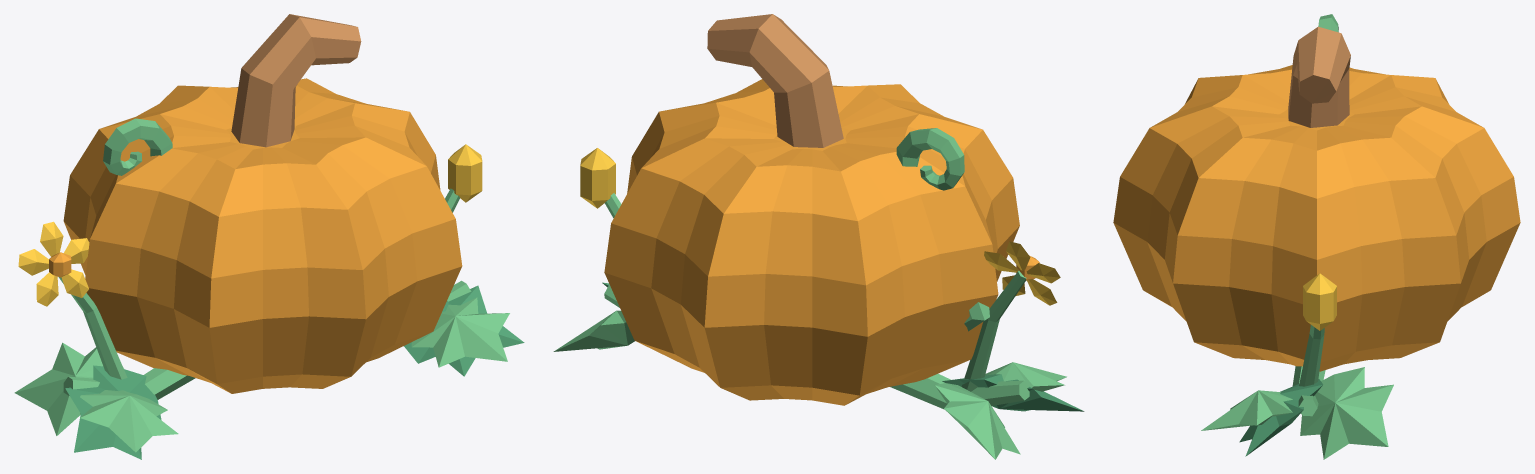
The model's file is 13-pumpkin.glb.
3 renders of one model, left to right at view 1: azimuth 30°, elevation 25°; view 2: azimuth 150°, elevation 25°; view 3: azimuth 270°, elevation 25°, orthographic. The views are drawn at different scales.
Visible parts, largest first — view 1: 13-pumpkin_Body; view 2: 13-pumpkin_Body; view 3: 13-pumpkin_Body.
Part boxes in pixels (x1,y1,x2,y2): 13-pumpkin_Body: [14, 14, 524, 459]; 13-pumpkin_Body: [553, 14, 1084, 459]; 13-pumpkin_Body: [1113, 14, 1520, 459].
Bounding box in the file's own units: 0.5422 × 0.4032 × 0.4152.
Materials: 1 (1 with a texture image).
